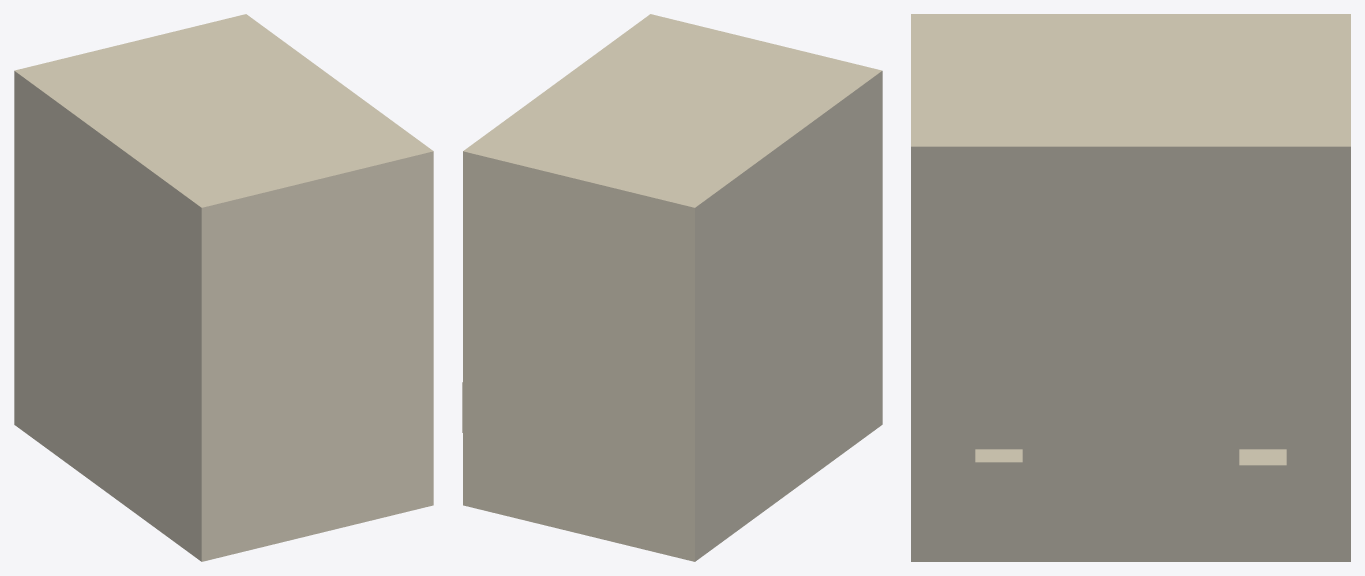
The model's file is BRAT_M5_R_LOW_03.glb.
3 renders of one model, left to right at view 1: azimuth 30°, elevation 25°; view 2: azimuth 150°, elevation 25°; view 3: azimuth 270°, elevation 25°, orthographic. The views are drawn at different scales.
Visible parts, largest first — view 1: BRAT_M5_R_LOW_03.001; view 2: BRAT_M5_R_LOW_03.001; view 3: BRAT_M5_R_LOW_03.001.
Boxes of the visible parts, left/top/right/bottom form: BRAT_M5_R_LOW_03.001: left=14, top=14, right=433, bottom=561; BRAT_M5_R_LOW_03.001: left=462, top=14, right=882, bottom=561; BRAT_M5_R_LOW_03.001: left=911, top=14, right=1350, bottom=561.
Bounding box in the file's own units: 0.2689 × 0.35 × 0.336.
